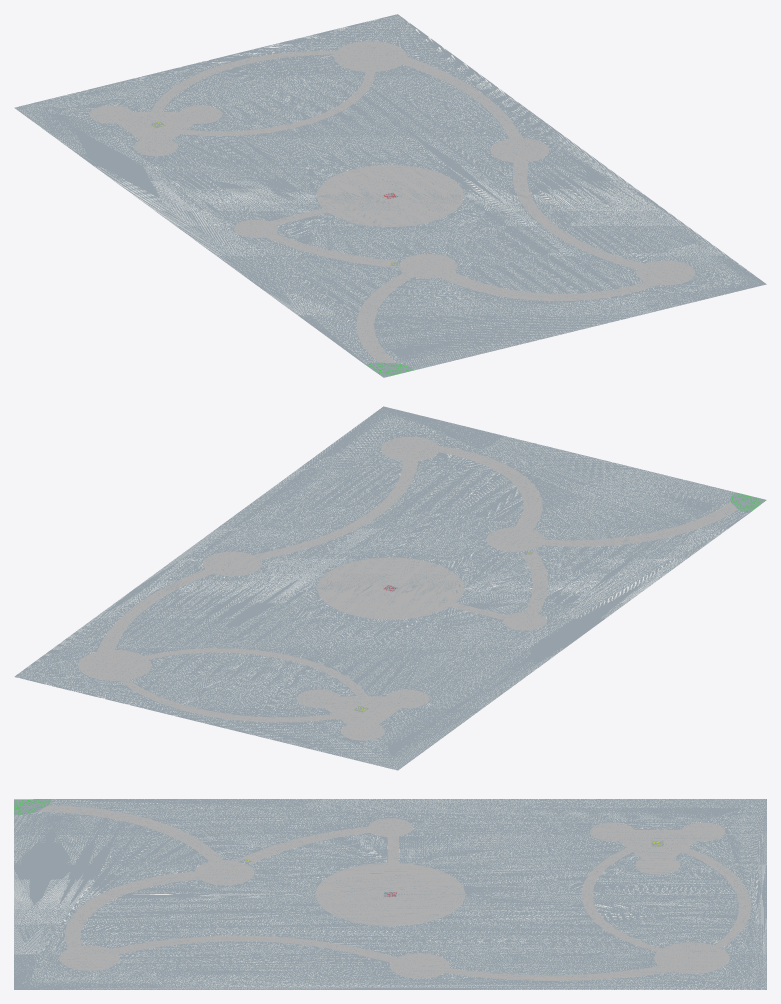
Rendered from stage2-Enjoy_minimap.fbx.
The picture shows the model from 3 angles, top to bottom: view 1: azimuth 30°, elevation 25°; view 2: azimuth 150°, elevation 25°; view 3: azimuth 270°, elevation 25°; orthographic projection.
Visible parts, largest first — view 1: Model; view 2: Model; view 3: Model.
Part boxes in pixels (x1,y1,x2,y2): Model: (14, 14, 766, 377); Model: (14, 406, 766, 770); Model: (14, 799, 766, 989).
Bounding box in the file's own units: 150 × 1.32e-13 × 250.
